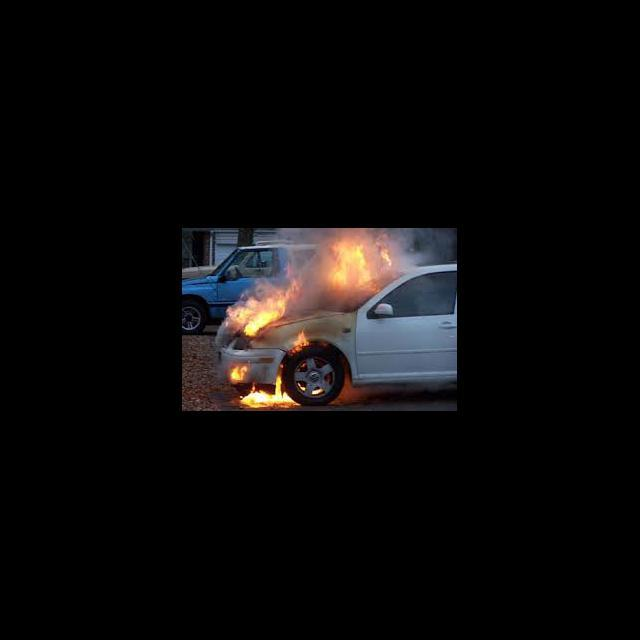Fire: (221, 264, 313, 348), (314, 228, 399, 308), (220, 358, 328, 410)
